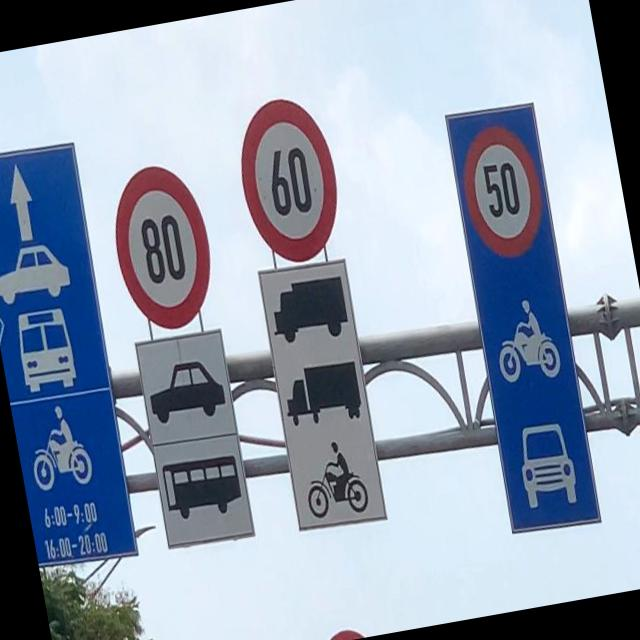P-127: (101, 156, 222, 336), (230, 92, 348, 270)
